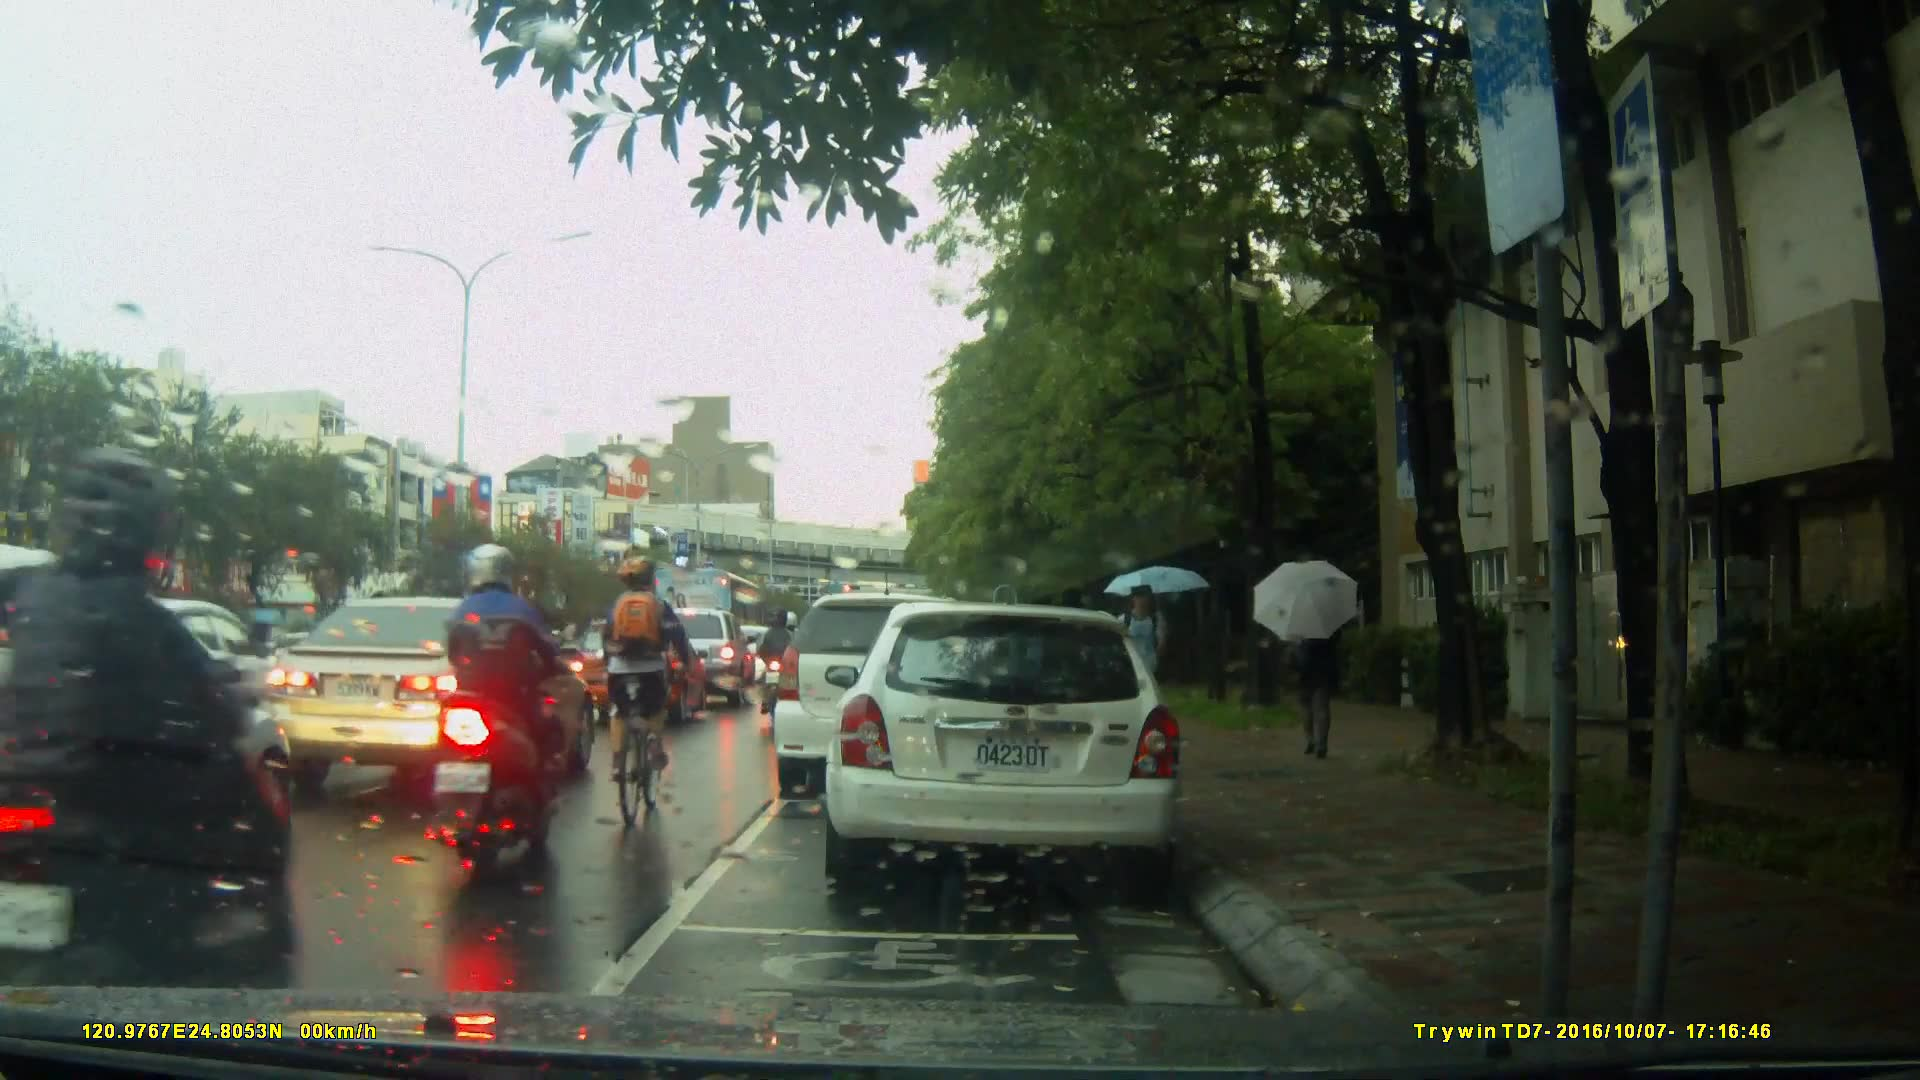pedestrian: (1127, 569, 1182, 782), (1279, 579, 1339, 762)
rider: (1, 450, 320, 1051), (438, 544, 570, 876), (602, 560, 704, 835), (767, 610, 800, 725)
vehicle: (1, 550, 301, 957), (835, 594, 1194, 898), (245, 595, 605, 796), (776, 590, 1026, 784), (557, 619, 709, 726), (652, 565, 768, 673)
